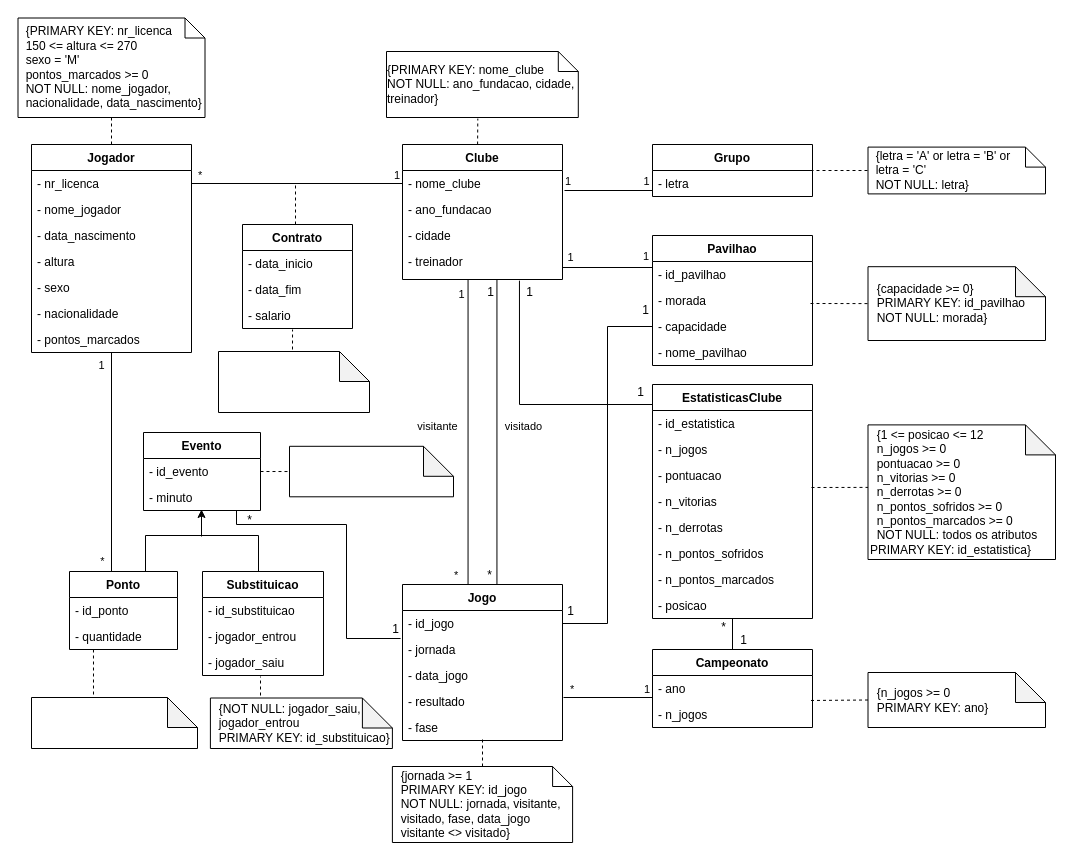
Some shapes in this 1073 by 860 pixel diagram are drawn without their labels. The centre of each missing label's shape, as x and y in pixels:
"{0 <= quantidade <= 3 NOT NULL: quantidade PRIMARY KEY: id_ponto}" goes at point 114,722.
"{NOT NULL: minuto 0 <= minuto < 40 PRIMARY KEY: id_evento}" goes at point 371,471.
"{salario >= 0 data_fim > data_inicio NOT NULL: data_fim, salario}" goes at point 294,381.
